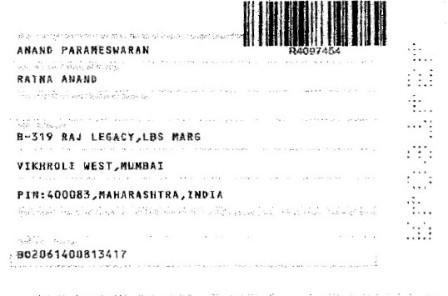File_no: (14, 248, 129, 260)
address: (15, 130, 379, 204)
father_name: (12, 41, 155, 59)
mother_name: (14, 73, 107, 87)
passport_no: (288, 44, 344, 57)
